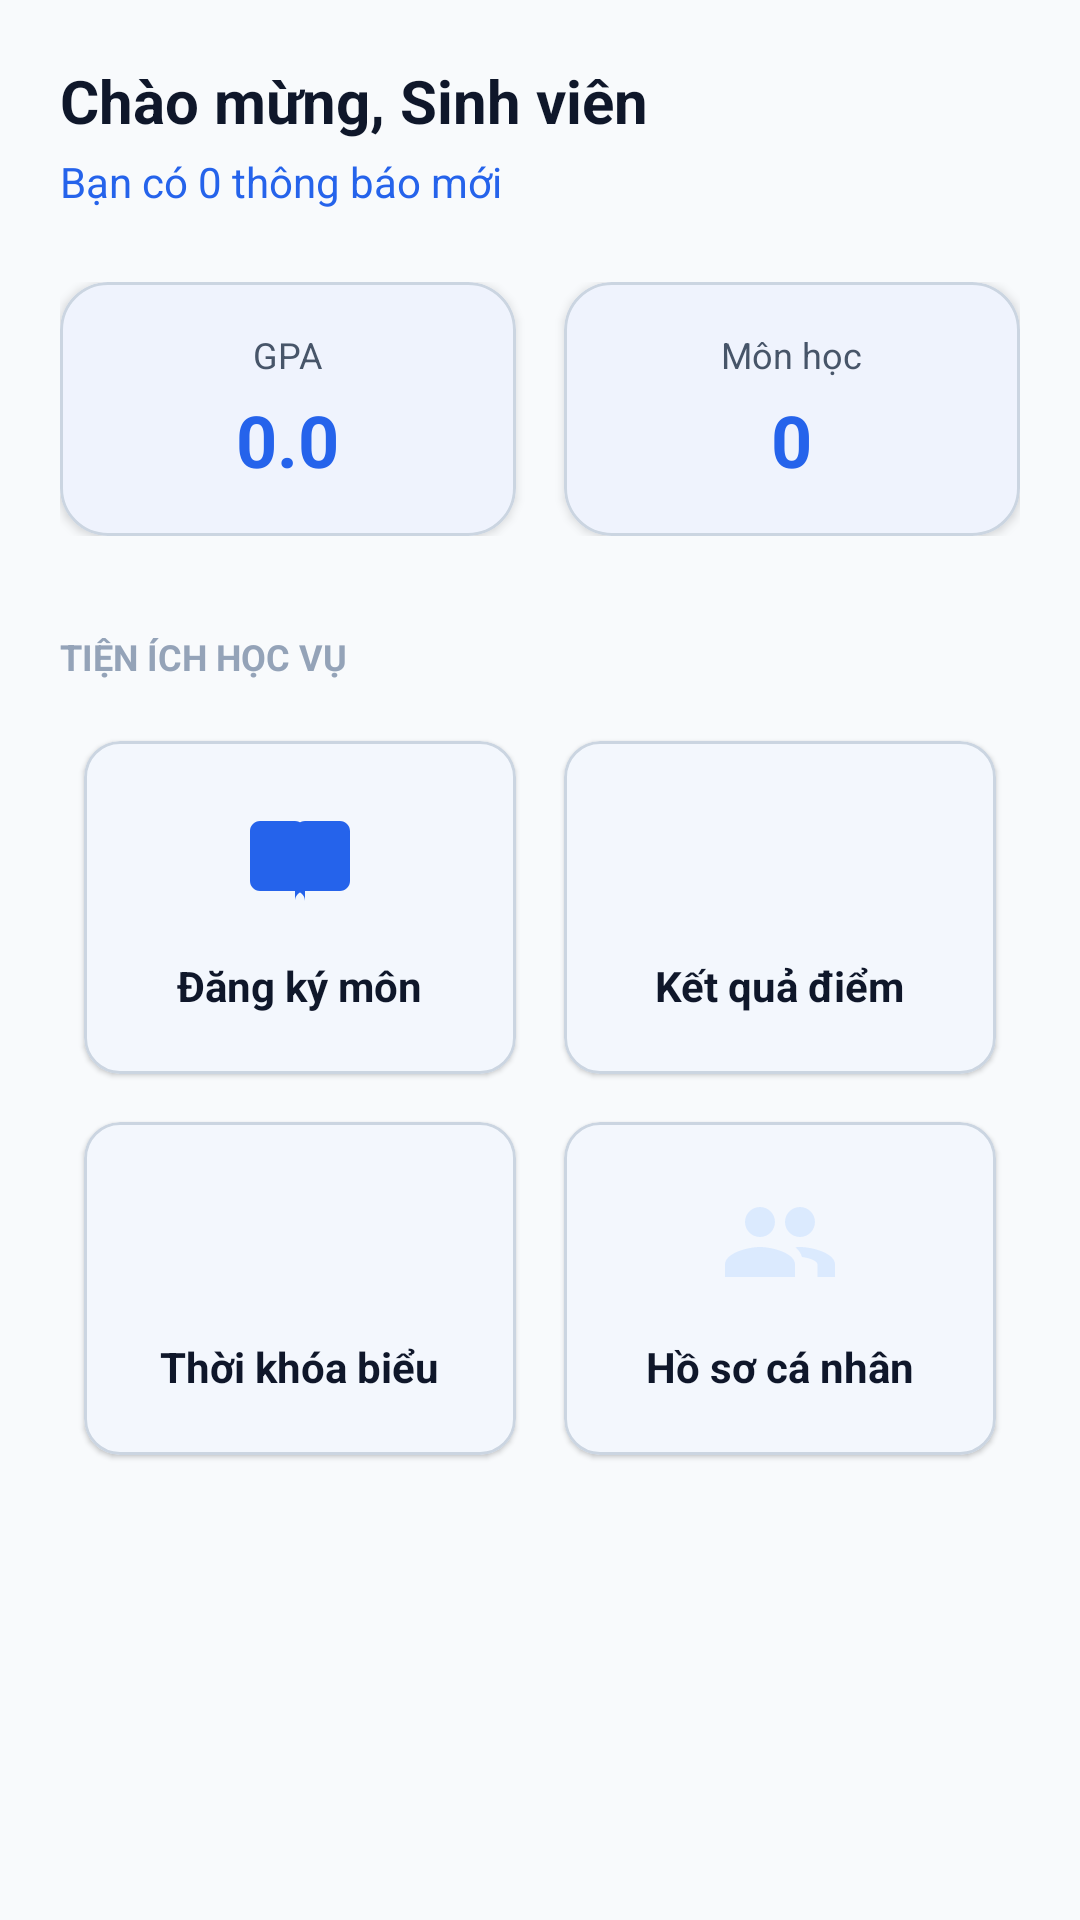

Where icons sit on this 1080x1920 app screen, as (x1, y1, x2, y2):
subjects: (250, 821, 350, 900)
